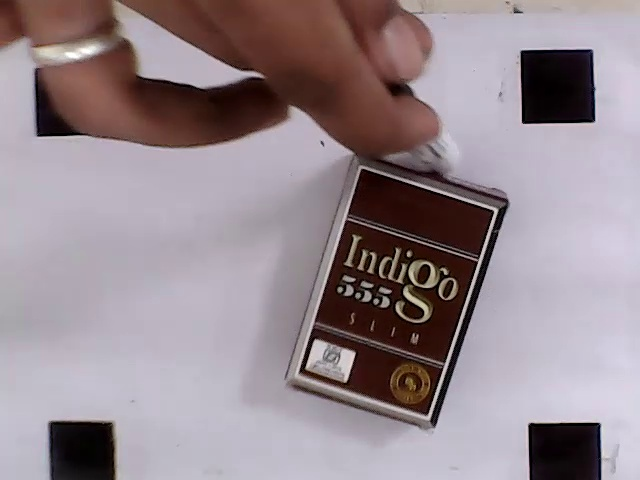BEX: (298, 167, 496, 418)
